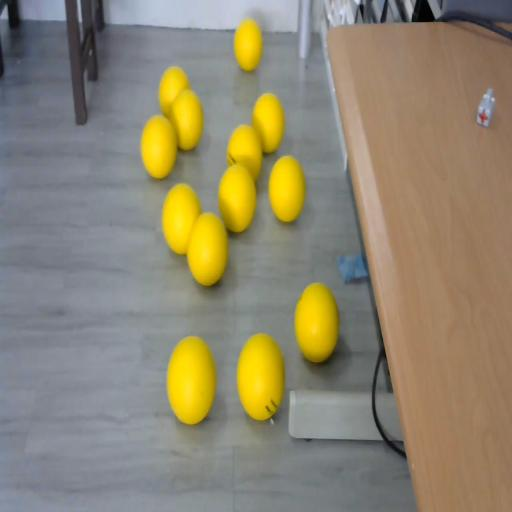FUEL: (166, 334, 216, 424), (236, 332, 286, 420), (293, 280, 340, 363), (217, 162, 258, 234), (162, 182, 202, 255), (268, 154, 306, 222), (140, 115, 177, 179), (169, 87, 204, 151), (252, 92, 285, 154), (234, 18, 262, 71)
